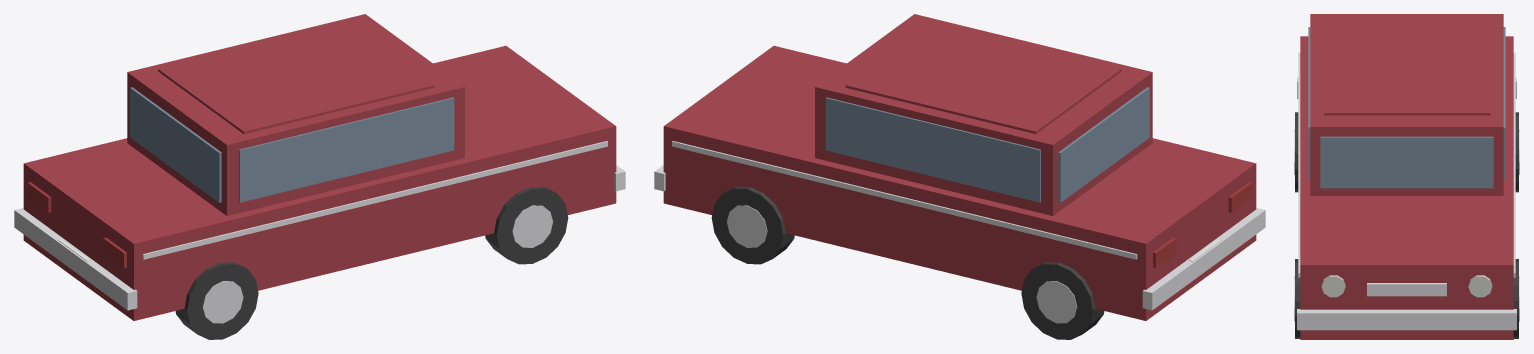
The model's file is zhiguli.glb.
The picture shows the model from 3 angles, left to right: view 1: azimuth 30°, elevation 25°; view 2: azimuth 150°, elevation 25°; view 3: azimuth 270°, elevation 25°; orthographic projection. The views are drawn at different scales.
Parts seen in each view (by area): view 1: Zhiguli; view 2: Zhiguli; view 3: Zhiguli.
Boxes of the visible parts, x1,y1,x2,y2 form: Zhiguli: (14,14,625,339); Zhiguli: (654,14,1265,339); Zhiguli: (1294,14,1519,339).
Bounding box in the file's own units: 4.18 × 1.51 × 1.69.
